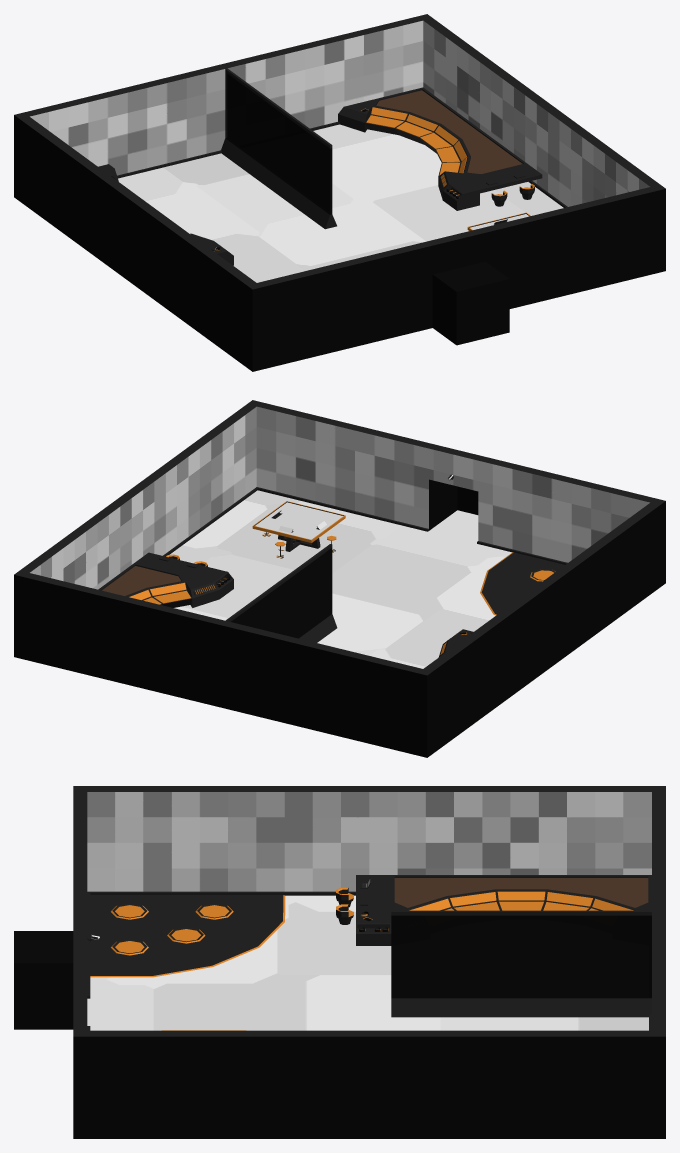
File: Recreation_Room_1x1x1.fbx
3 renders of one model, top to bottom at view 1: azimuth 30°, elevation 25°; view 2: azimuth 150°, elevation 25°; view 3: azimuth 270°, elevation 25°, orthographic. The views are drawn at different scales.
Parts seen in each view (by area): view 1: Recreation_Room_1x1x1; view 2: Recreation_Room_1x1x1; view 3: Recreation_Room_1x1x1.
Boxes of the visible parts, x1,y1,x2,y2 form: Recreation_Room_1x1x1: [14, 14, 665, 371]; Recreation_Room_1x1x1: [14, 400, 665, 757]; Recreation_Room_1x1x1: [14, 786, 665, 1138].
Bounding box in the file's own units: 42 × 46.2 × 8.
